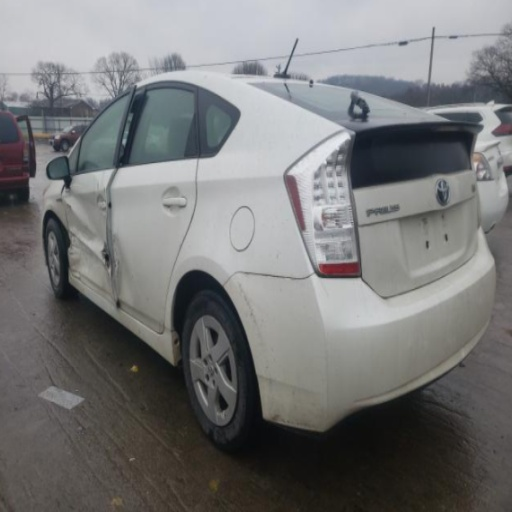dent: (64, 165, 119, 311), (111, 230, 145, 325)
